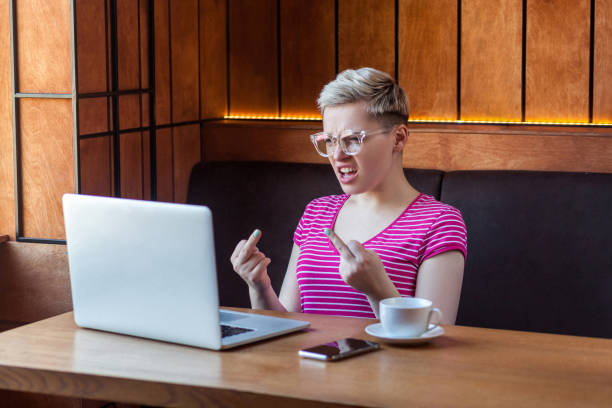insulting_gesture: (323, 223, 381, 292), (231, 226, 276, 288)
